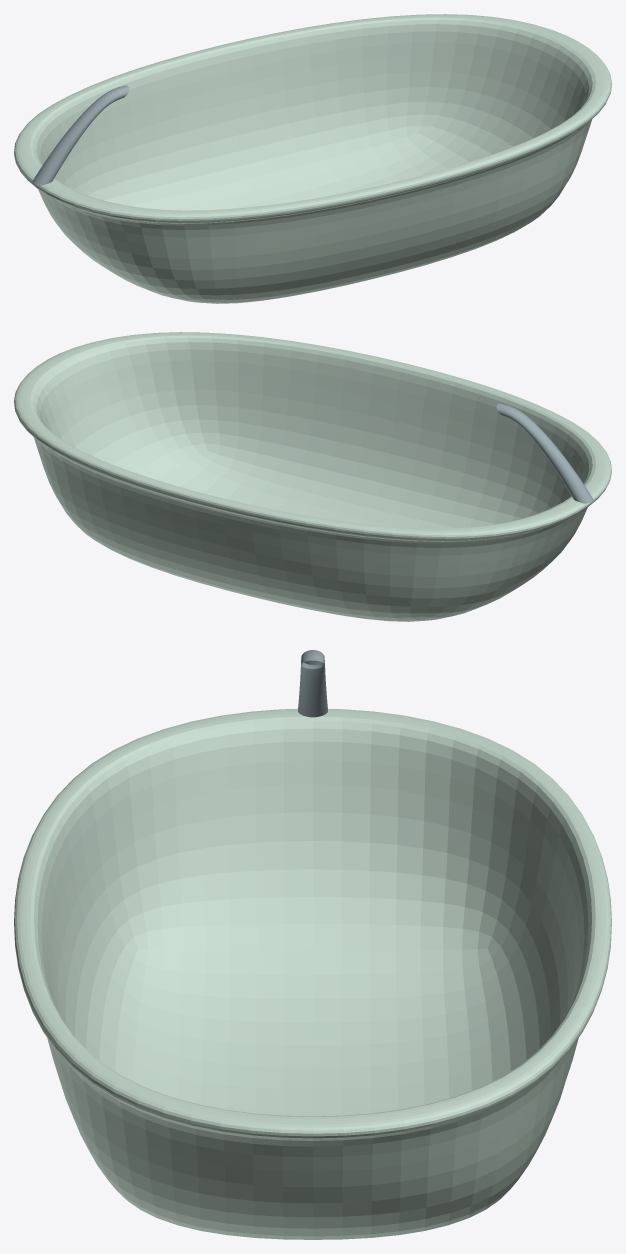
The model's file is Bathtub.fbx.
The picture shows the model from 3 angles, top to bottom: view 1: azimuth 30°, elevation 25°; view 2: azimuth 150°, elevation 25°; view 3: azimuth 270°, elevation 25°; orthographic projection. The views are drawn at different scales.
Parts seen in each view (by area): view 1: Bathtub; view 2: Bathtub; view 3: Bathtub.
Boxes of the visible parts, <box> form: Bathtub: <box>14,14,611,303</box>; Bathtub: <box>14,332,611,621</box>; Bathtub: <box>14,650,611,1239</box>.
Bounding box in the file's own units: 567 × 208 × 337.
